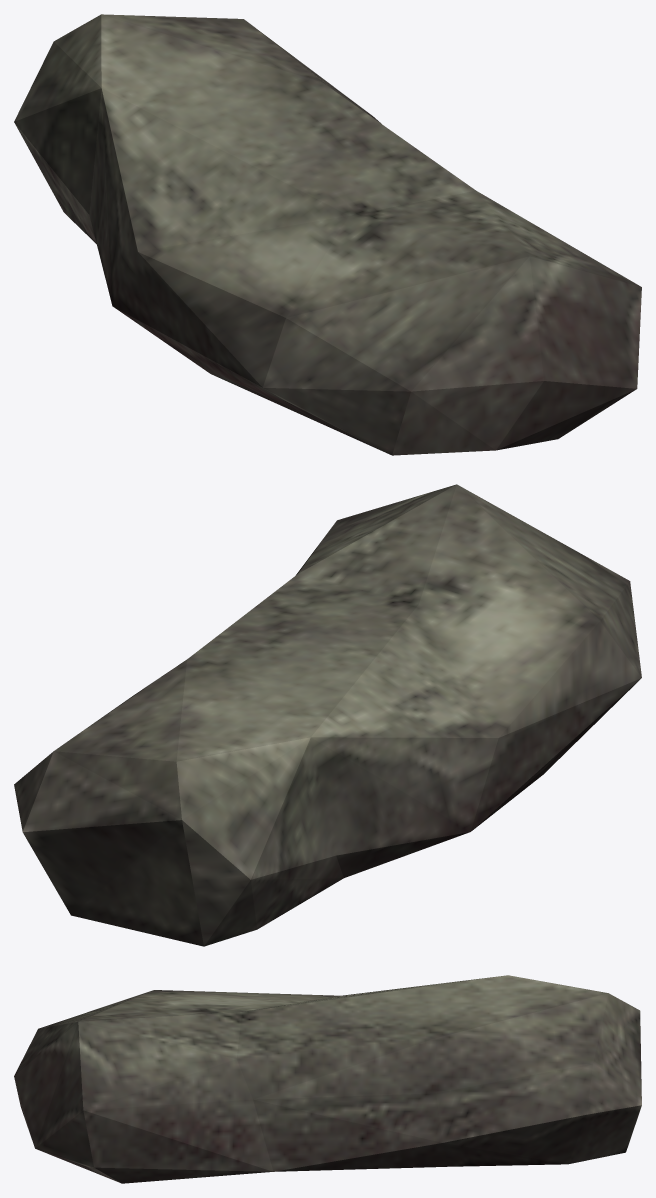
The model's file is Scene_Rock_04.FBX.
3 views of the same model, one above another, from view 1: azimuth 30°, elevation 25°; view 2: azimuth 150°, elevation 25°; view 3: azimuth 270°, elevation 25° (orthographic). The views are drawn at different scales.
Parts seen in each view (by area): view 1: Scene_Rock_04; view 2: Scene_Rock_04; view 3: Scene_Rock_04.
Part boxes in pixels (<box>): Scene_Rock_04: <box>14,14,641,455</box>; Scene_Rock_04: <box>14,484,641,946</box>; Scene_Rock_04: <box>14,975,641,1183</box>.
Size of the model in its own units: 1.13 by 0.535 by 2.38.
